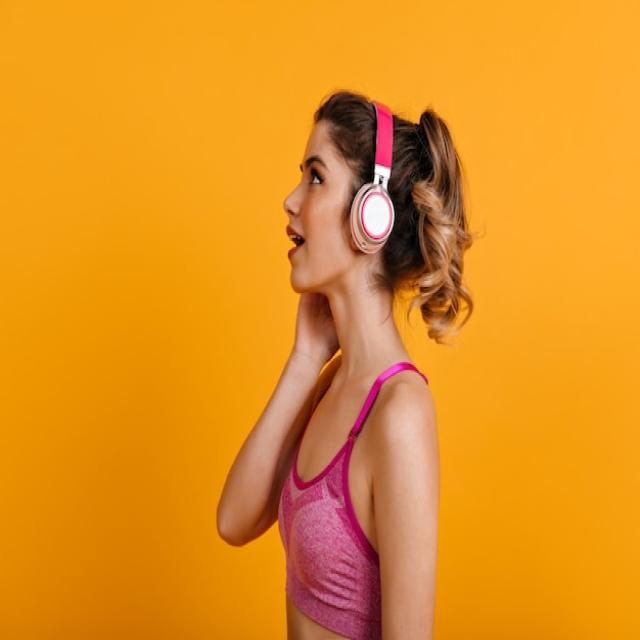Headphone: (349, 100, 395, 255)
